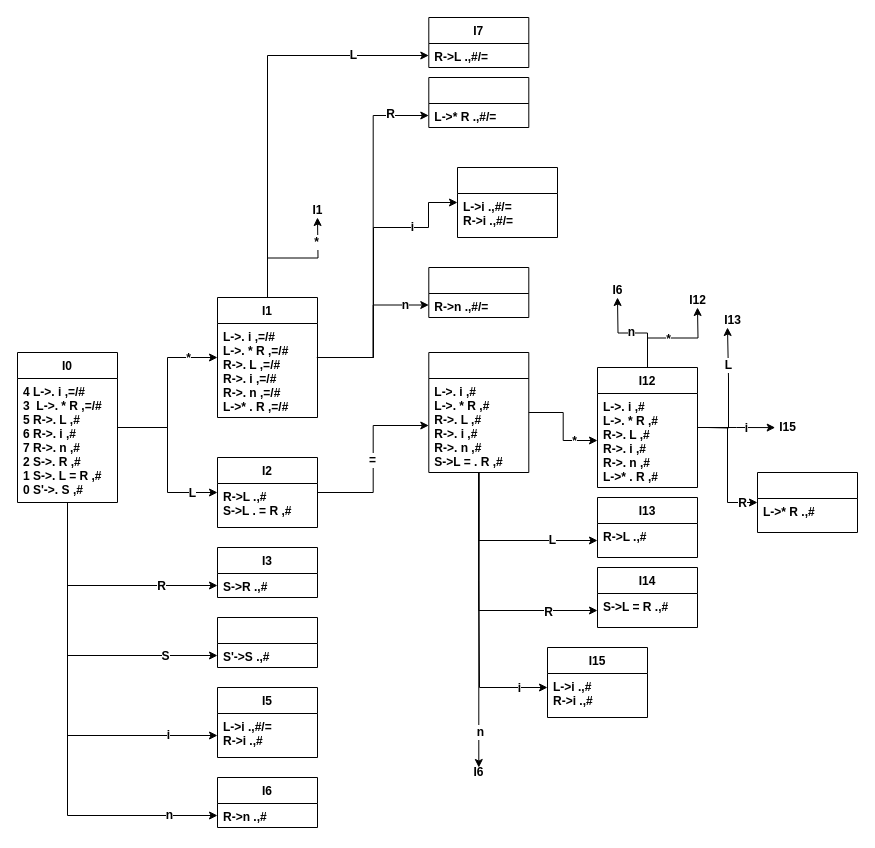
This 875x848 diagram has some shape labels left out. The box of each missing label's shape, as (x1, y1, x2, y2) in pixels:
I10: (428, 266, 529, 318)
I11: (428, 352, 529, 472)
I16: (756, 472, 858, 532)
I4: (216, 616, 318, 668)
I8: (428, 76, 529, 128)
I9: (456, 166, 558, 238)
